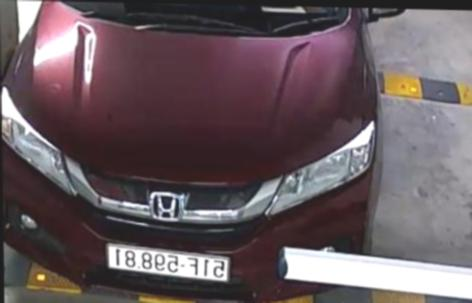License_Plate: (102, 234, 235, 287)
